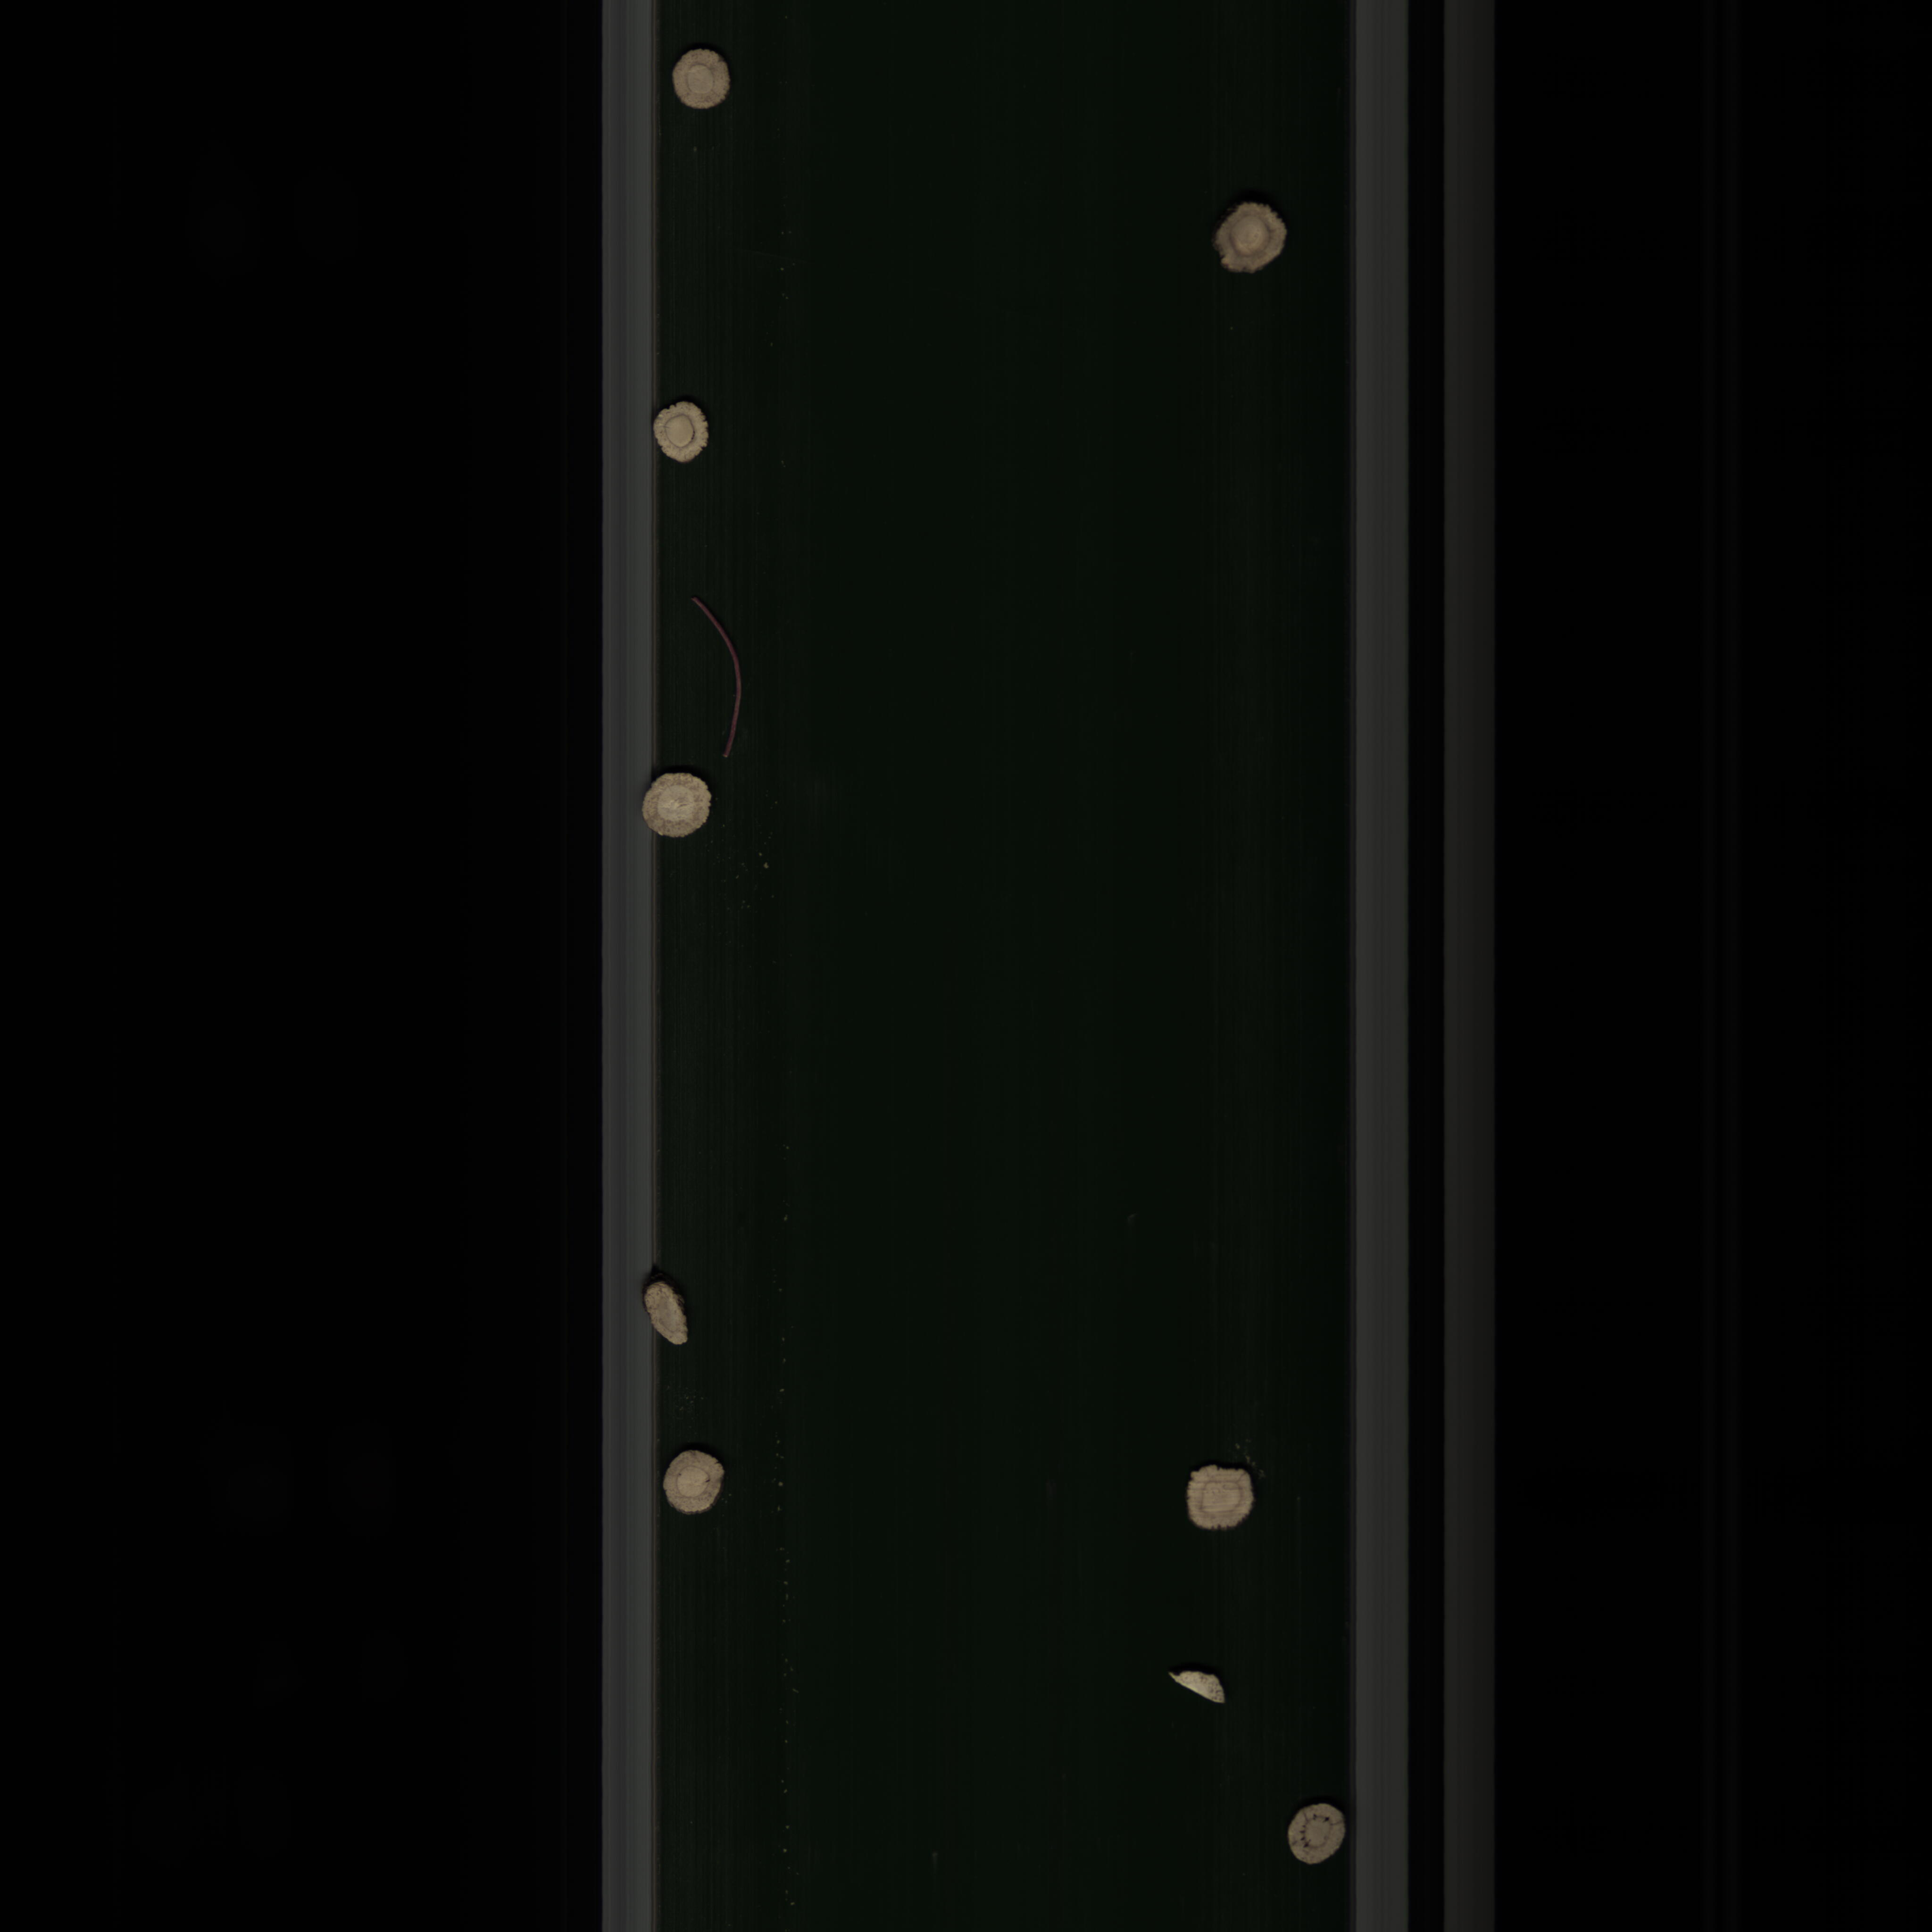debris: (637, 1281, 697, 1353), (1162, 1660, 1230, 1713)
hole: (1279, 1794, 1348, 1872)
moldy: (1208, 193, 1297, 280)
